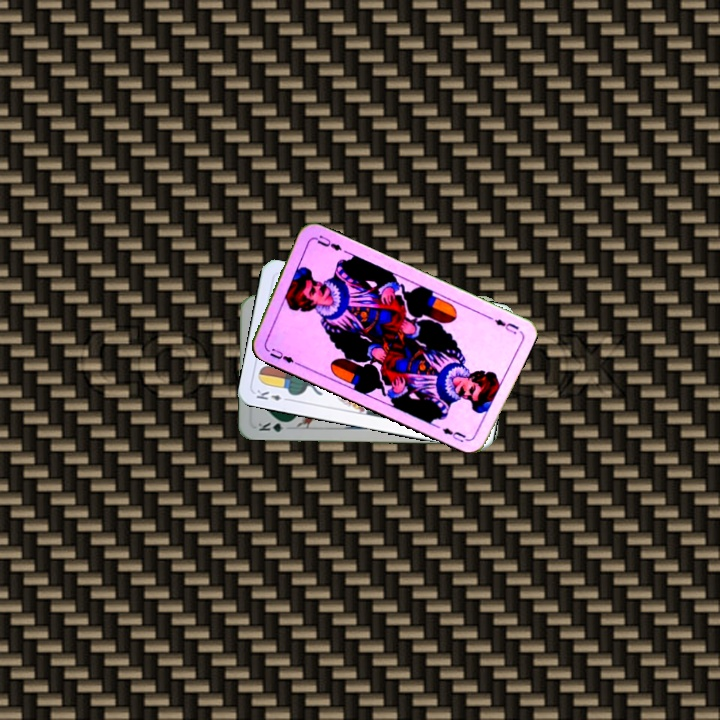EK: (252, 385, 292, 404)
EU: (490, 315, 521, 337), (266, 344, 296, 366)
GK: (254, 418, 293, 434)
